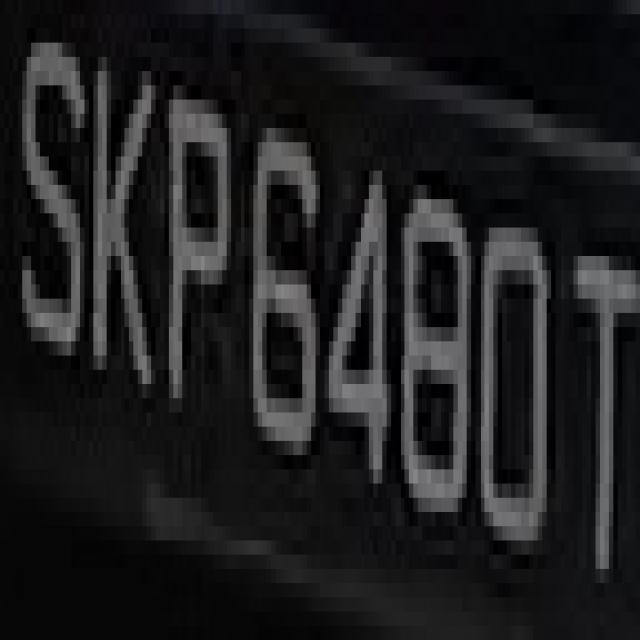0: (458, 185, 551, 583)
4: (311, 114, 391, 540)
6: (236, 85, 324, 498)
8: (387, 128, 471, 555)
K: (89, 71, 151, 441)
P: (156, 42, 236, 426)
S: (9, 14, 89, 370)
T: (555, 185, 640, 640)
